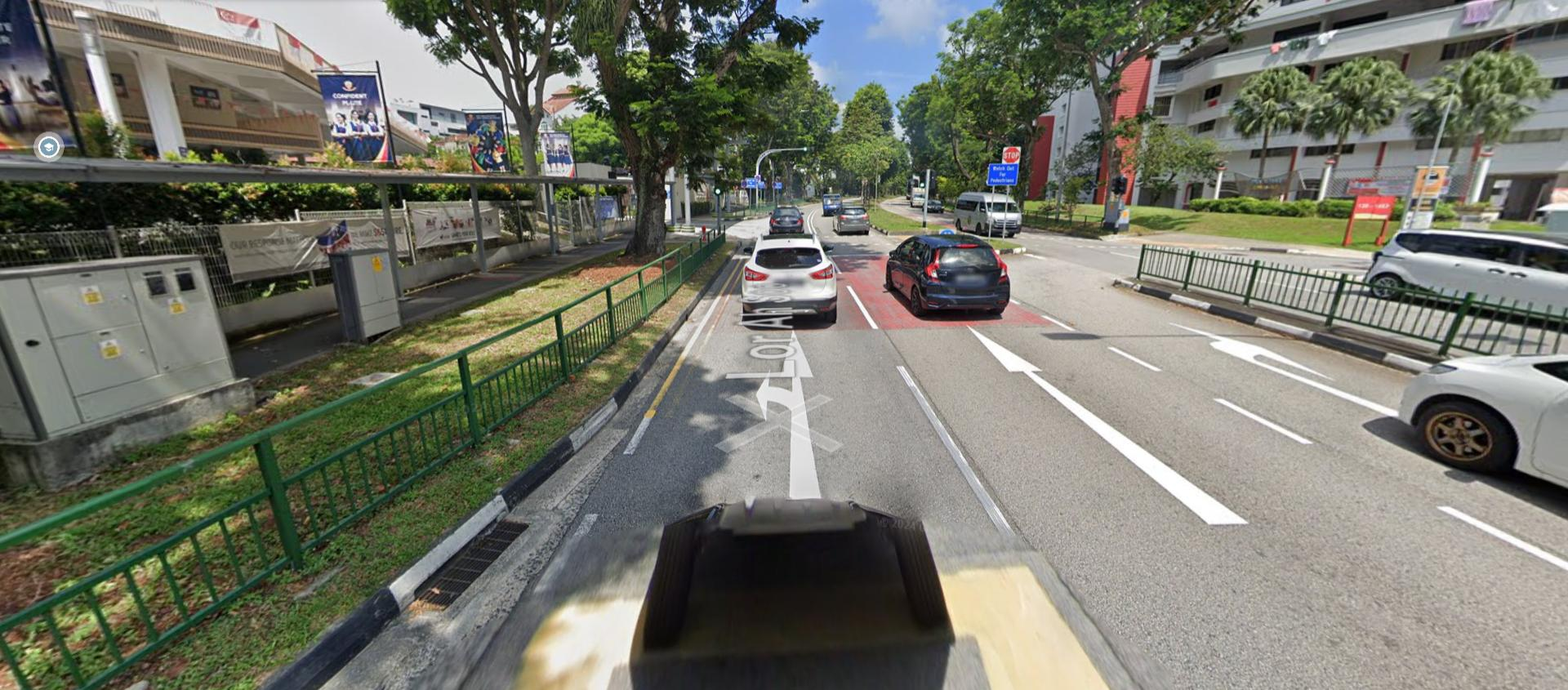normal: (408, 518, 535, 613)
